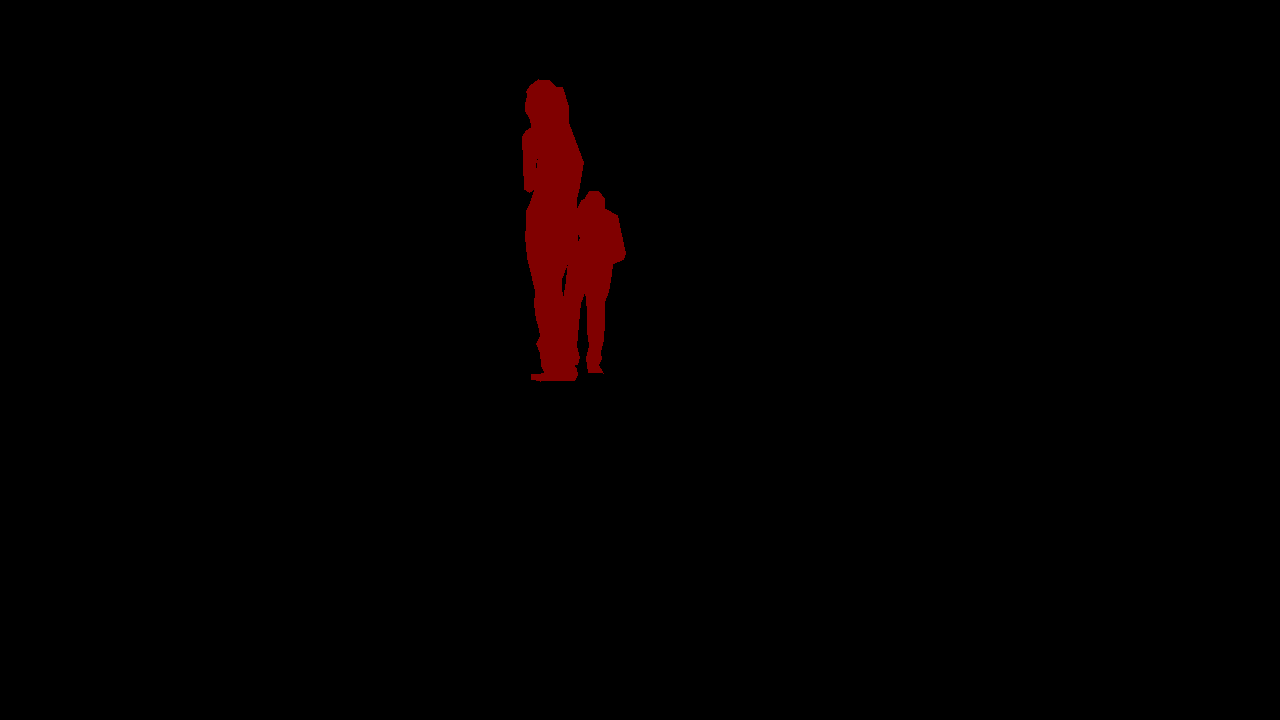person: (522, 79, 583, 381), (563, 191, 625, 373)
